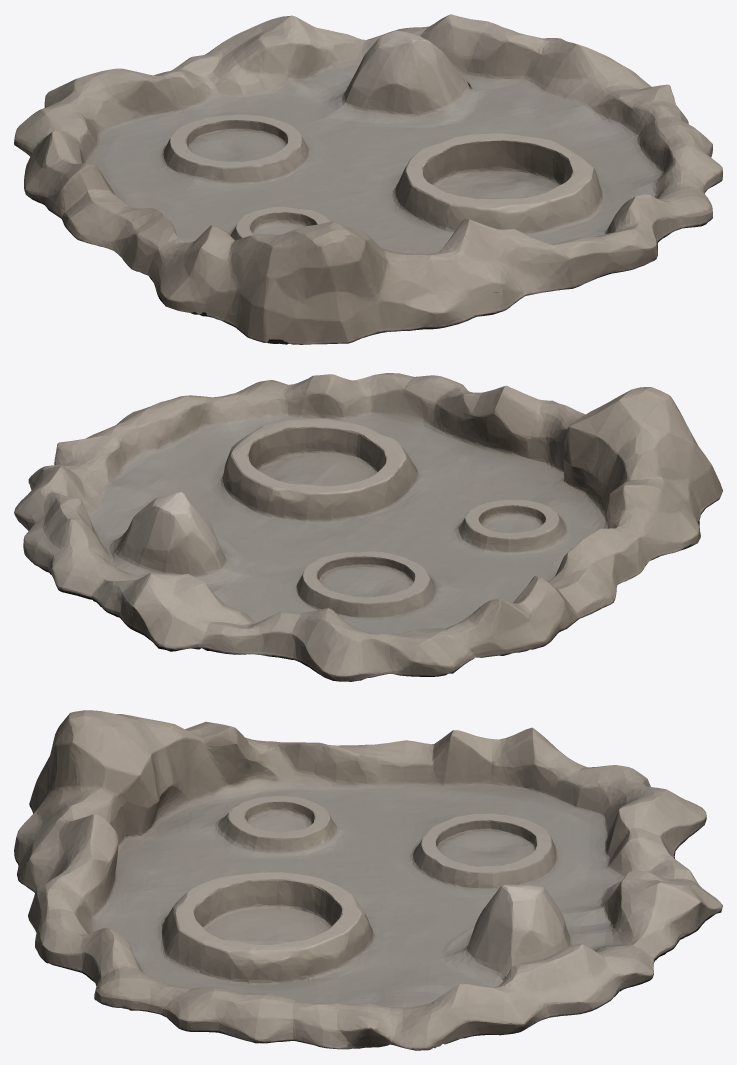
The picture shows the model from 3 angles, top to bottom: view 1: azimuth 30°, elevation 25°; view 2: azimuth 150°, elevation 25°; view 3: azimuth 270°, elevation 25°; orthographic projection. The views are drawn at different scales.
Visible parts, largest first — view 1: world; view 2: world; view 3: world.
Boxes of the visible parts, x1=… form: world: x1=14, y1=14, x2=722, y2=344; world: x1=14, y1=373, x2=722, y2=681; world: x1=14, y1=710, x2=722, y2=1050.
Bounding box in the file's own units: 0.9955 × 0.1759 × 1.
Materials: 1 (1 with a texture image).
